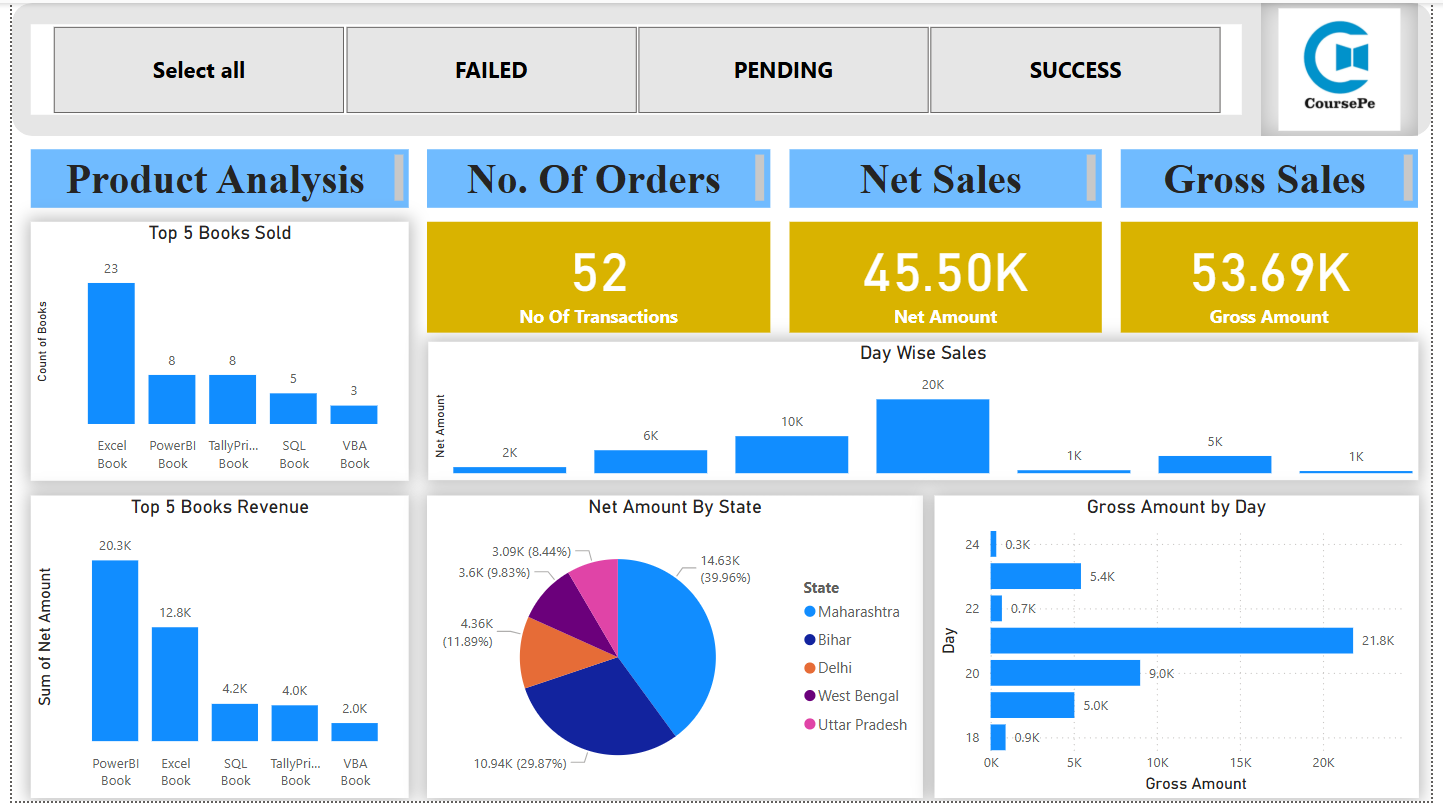

Layout of this report page (visuals, bound fields, positions):
{"tool":"powerbi","page":{"name":"Page 1","canvas":[1280,720],"ordinal":0},"visuals":[{"type":"shape","box":[0,0,1280.3,119.8],"z":0},{"type":"image","box":[1126.2,0,141.8,119.8],"z":1000},{"type":"slicer","fields":{"Values":["7 Days Books Sales Report File.Payment Status"]},"box":[17.1,19.6,1092,81.9],"z":2000},{"type":"textbox","box":[17.1,132.1,341.2,52.6],"z":2001},{"type":"textbox","box":[374.2,132.1,309.4,52.6],"z":2002},{"type":"textbox","box":[700.7,132.1,281.3,52.6],"z":2003},{"type":"textbox","box":[1000.3,132.1,267.8,52.6],"z":2004},{"type":"clusteredColumnChart","title":"Top 5 Books Sold","fields":{"Category":["7 Days Books Sales Report File.Books"],"Y":["CountNonNull(7 Days Books Sales Report File.Books)"]},"box":[17.1,196.9,341.2,233.6],"z":2005},{"type":"clusteredColumnChart","title":"Top 5 Books Revenue","fields":{"Category":["7 Days Books Sales Report File.Books"],"Y":["Sum(7 Days Books Sales Report File.Net Amount)"]},"box":[17.1,443.9,341.2,272.7],"z":2006},{"type":"clusteredColumnChart","title":"Day Wise Sales","fields":{"Category":["7 Days Books Sales Report File.Order Date.Variation.Date Hierarchy.Day"],"Y":["Sum(7 Days Books Sales Report File.Net Amount)"]},"box":[375.4,305.7,892.7,124.7],"z":2007},{"type":"card","fields":{"Values":["CountNonNull(7 Days Books Sales Report File.OrderId)"]},"box":[374.2,196.9,309.4,100.3],"z":2008},{"type":"card","fields":{"Values":["Sum(7 Days Books Sales Report File.Net Amount)"]},"box":[700.7,196.9,281.3,100.3],"z":2009},{"type":"card","fields":{"Values":["Sum(7 Days Books Sales Report File.Gross Amount)"]},"box":[1000.3,196.9,267.8,100.3],"z":2010},{"type":"pieChart","title":"Net Amount By State ","fields":{"Category":["7 Days Books Sales Report File.State"],"Y":["Sum(7 Days Books Sales Report File.Net Amount)"]},"box":[374.2,443.9,447.6,272.7],"z":2011},{"type":"clusteredBarChart","fields":{"Category":["7 Days Books Sales Report File.Order Date.Variation.Date Hierarchy.Day"],"Y":["Sum(7 Days Books Sales Report File.Gross Amount)"]},"box":[831.5,443.9,436.6,272.7],"z":2012}]}

Visuals, with their boxes in screenshot pixels (x1, y1, x2, y2), scaled from the page's 1280x720 canvas onto the 1443x806 screenshot:
shape: select_region(0, 0, 1442, 134)
image: select_region(1270, 0, 1429, 134)
slicer - 7 Days Books Sales Report File.Payment Status: select_region(19, 22, 1250, 114)
textbox: select_region(19, 148, 404, 207)
textbox: select_region(422, 148, 771, 207)
textbox: select_region(790, 148, 1107, 207)
textbox: select_region(1128, 148, 1430, 207)
"Top 5 Books Sold" clusteredColumnChart: select_region(19, 220, 404, 482)
"Top 5 Books Revenue" clusteredColumnChart: select_region(19, 497, 404, 802)
"Day Wise Sales" clusteredColumnChart: select_region(423, 342, 1430, 482)
card - CountNonNull(7 Days Books Sales Report File.OrderId): select_region(422, 220, 771, 333)
card - Sum(7 Days Books Sales Report File.Net Amount): select_region(790, 220, 1107, 333)
card - Sum(7 Days Books Sales Report File.Gross Amount): select_region(1128, 220, 1430, 333)
"Net Amount By State " pieChart: select_region(422, 497, 926, 802)
clusteredBarChart - 7 Days Books Sales Report File.Order Date.Variation.Date Hierarchy.Day x Sum(7 Days Books Sales Report File.Gross Amount): select_region(937, 497, 1430, 802)
